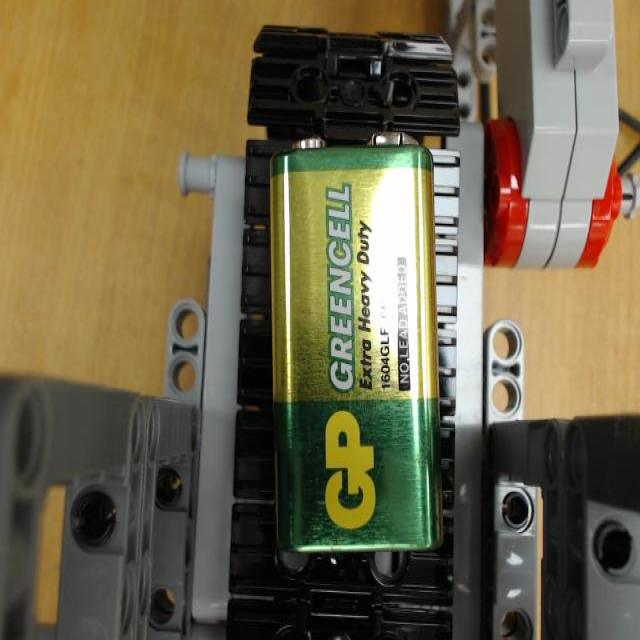9V: (272, 149, 434, 551)
